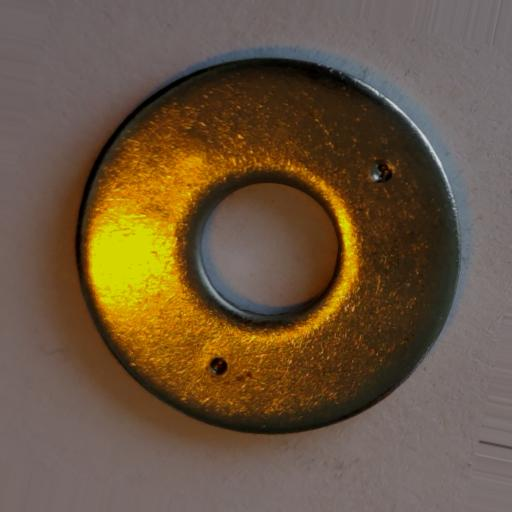circular_cavity: (370, 161, 392, 183), (208, 357, 228, 376)
